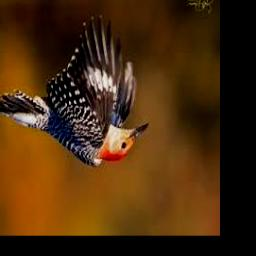Woodpecker: (0, 15, 149, 167)
